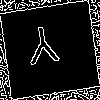Y: (25, 25, 62, 75)
